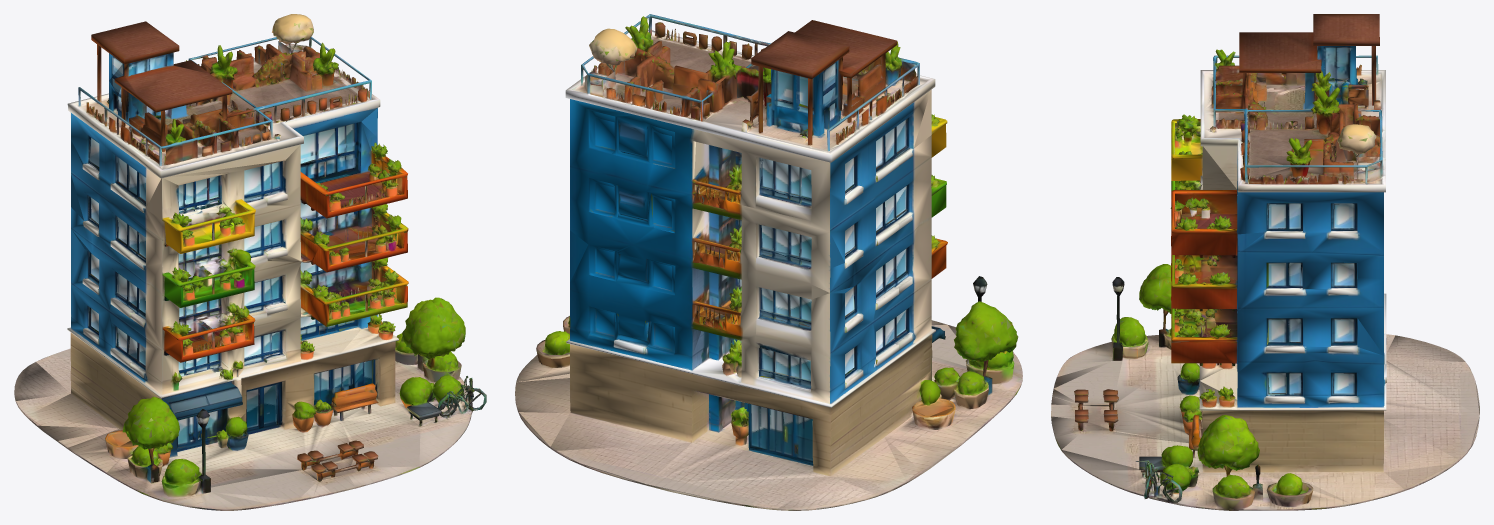
Rendered from residence.glb.
3 renders of one model, left to right at view 1: azimuth 30°, elevation 25°; view 2: azimuth 150°, elevation 25°; view 3: azimuth 270°, elevation 25°, orthographic. The views are drawn at different scales.
Visible parts, largest first — view 1: Mesh_0; view 2: Mesh_0; view 3: Mesh_0.
Boxes of the visible parts, x1,y1,x2,y2 form: Mesh_0: [14, 14, 486, 510]; Mesh_0: [515, 14, 1022, 510]; Mesh_0: [1051, 14, 1479, 510].
Bounding box in the file's own units: 1.89 × 1.74 × 1.9.
1 material, 1 textured.
